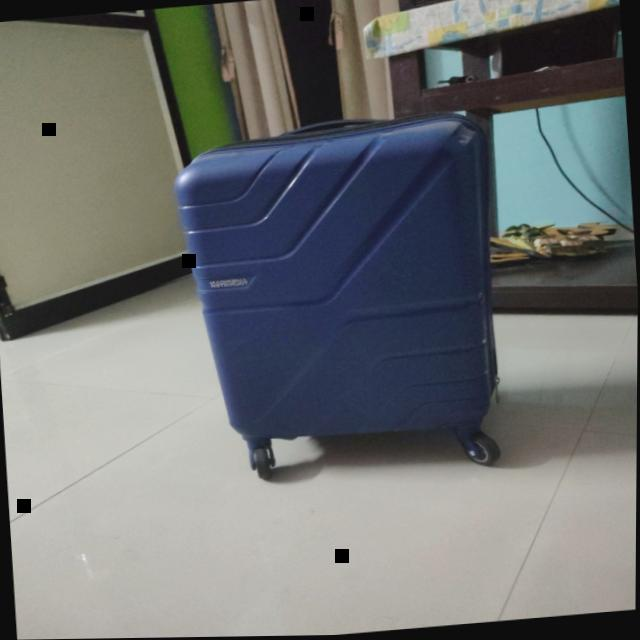luggage: (166, 104, 514, 471)
